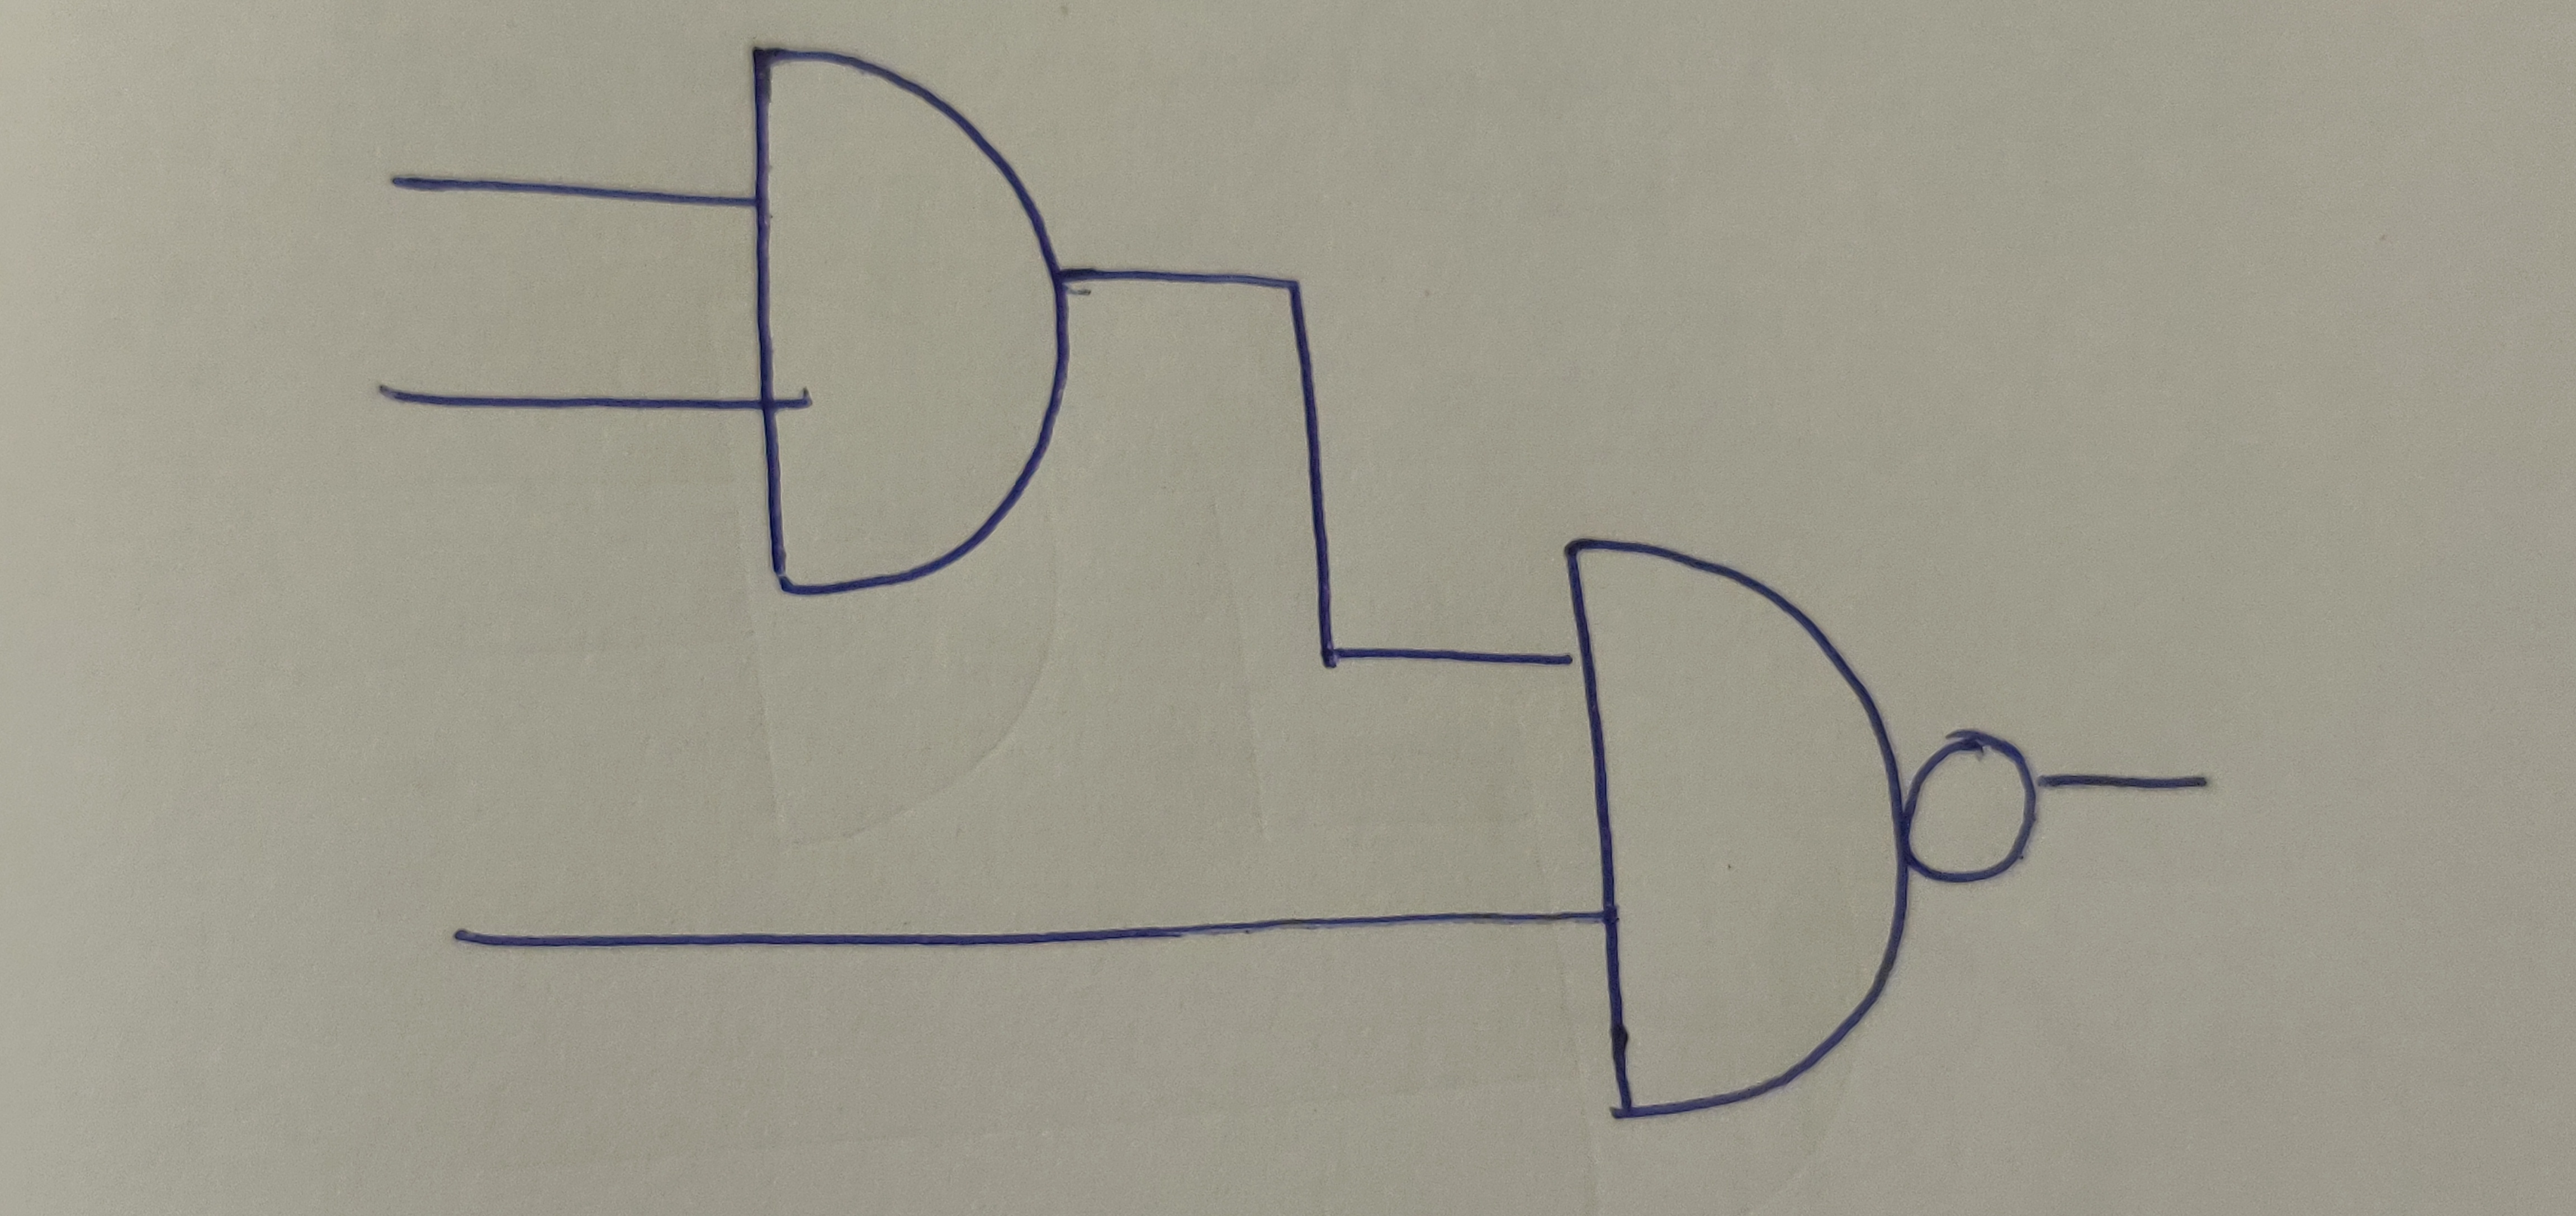and: (1554, 529, 1914, 1122), (749, 44, 1074, 596)
not: (1896, 728, 2044, 886)
